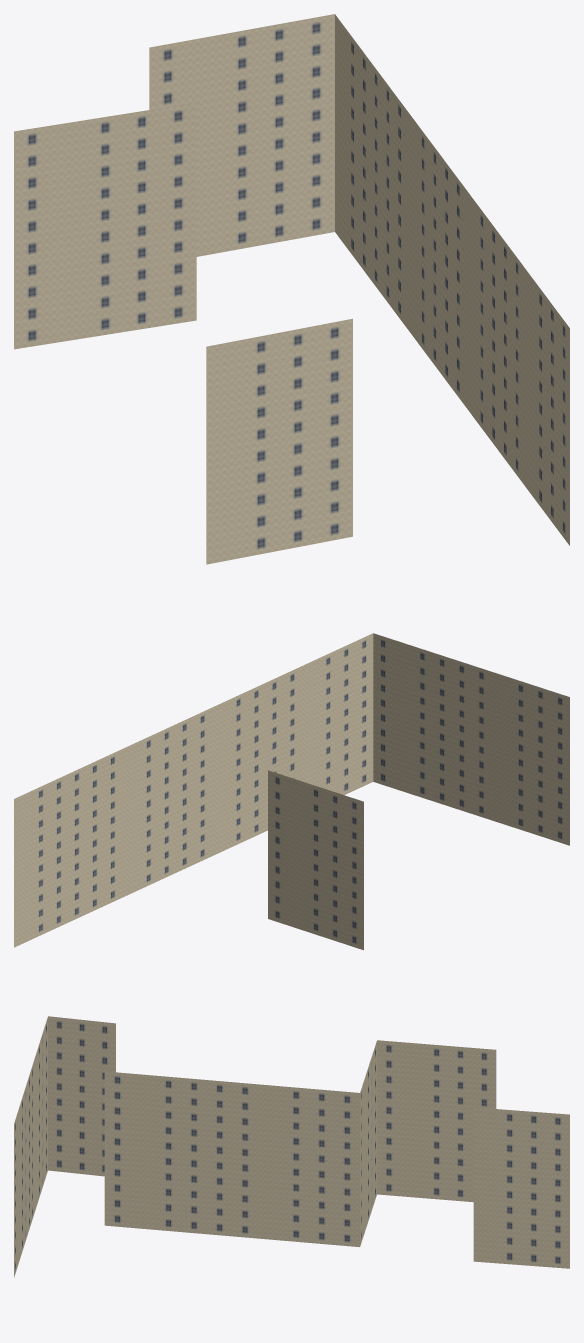
3 views of the same model, one above another, from view 1: azimuth 30°, elevation 25°; view 2: azimuth 150°, elevation 25°; view 3: azimuth 270°, elevation 25° (orthographic). The views are drawn at different scales.
Bounding box in the file's own units: 66 × 30 × 98.
Materials: 2 (2 with a texture image).
